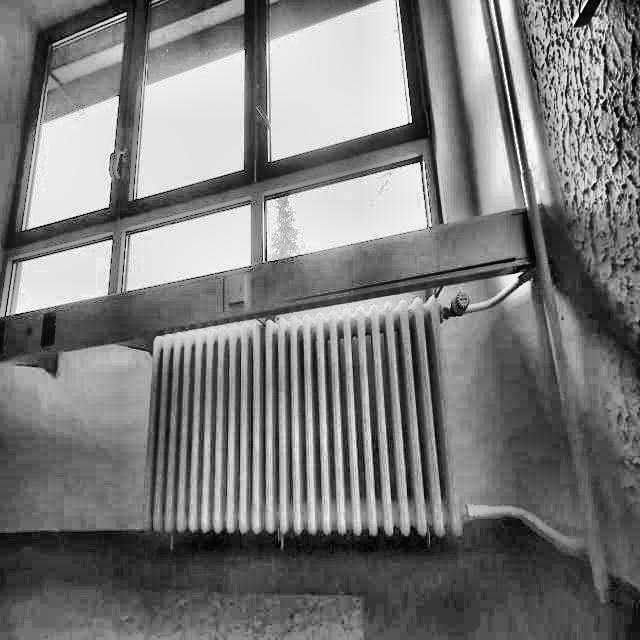ff: (123, 110, 383, 268)
